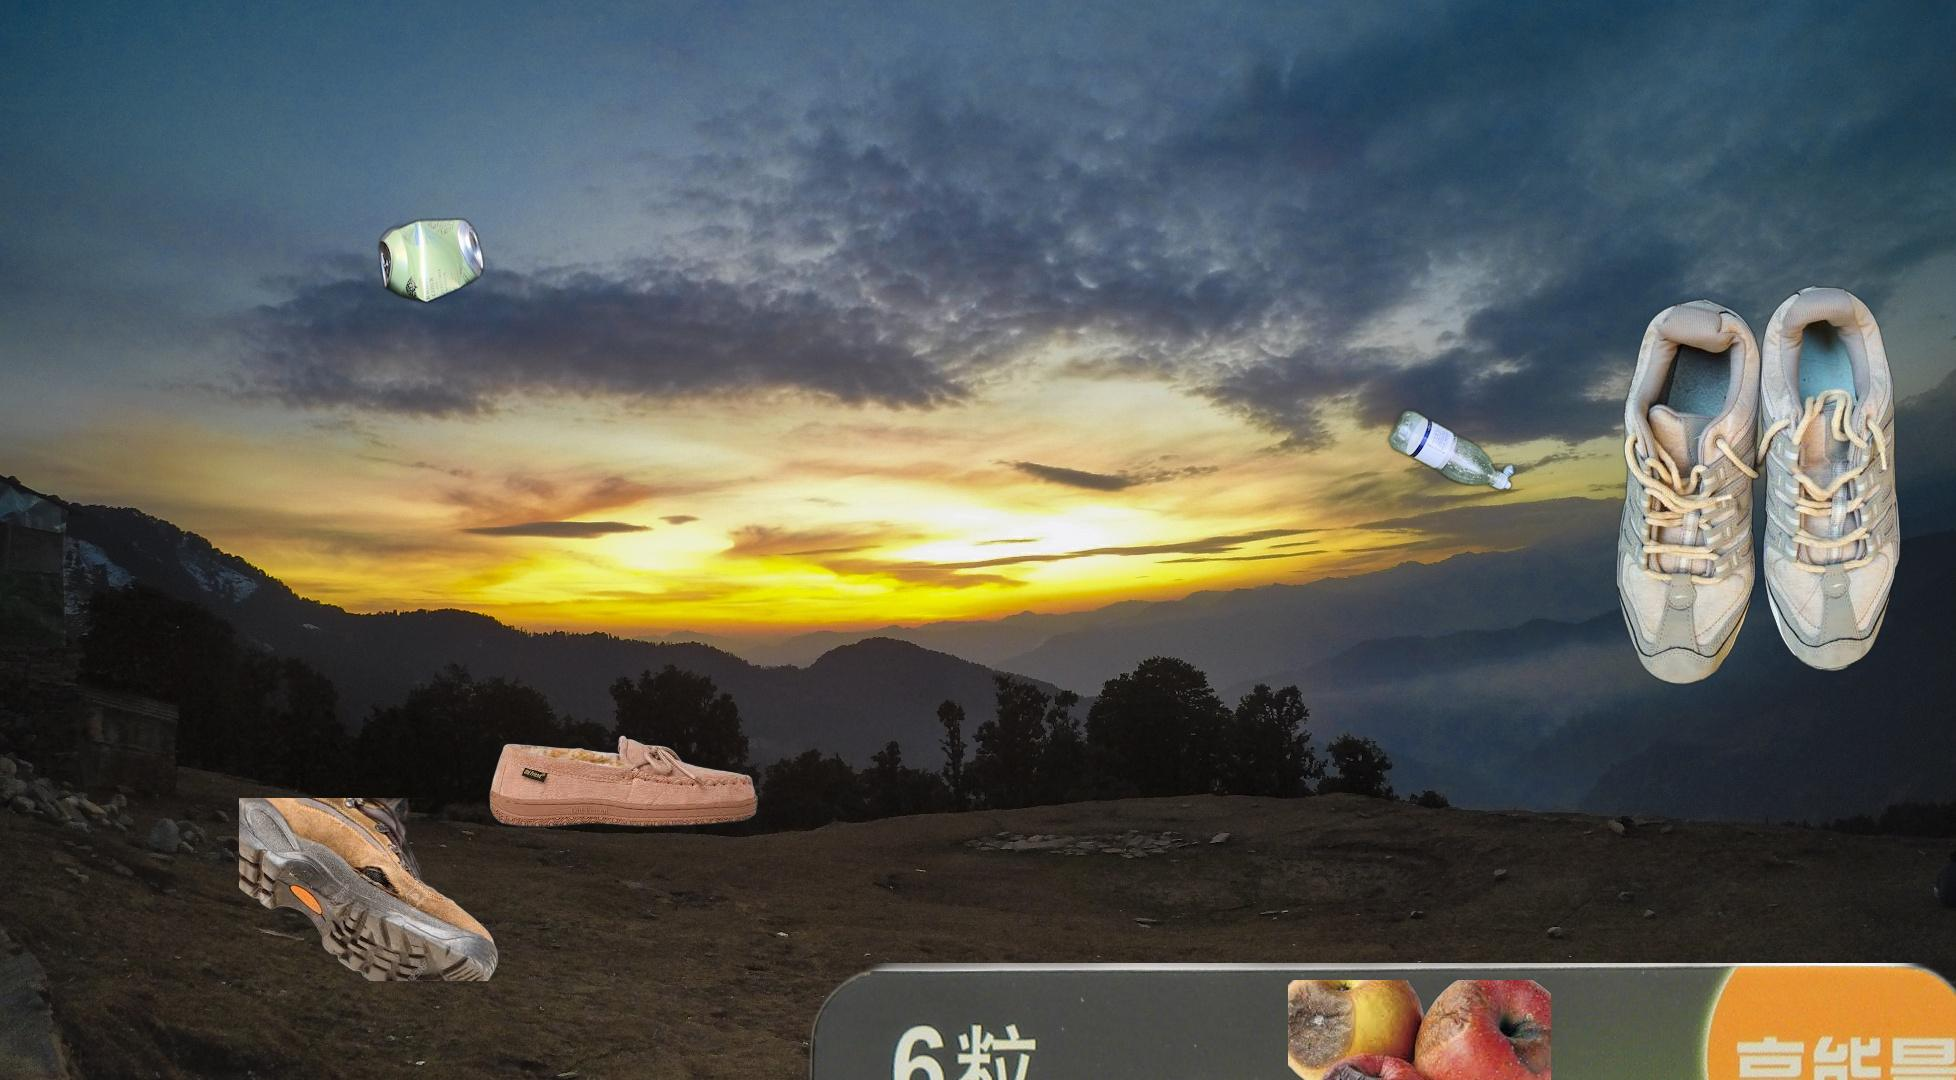battery: (624, 963, 1956, 1080)
biological: (1288, 980, 1550, 1080)
metal-cans: (374, 211, 737, 665)
plastic-bottles: (1060, 404, 1519, 690)
shoes: (1613, 282, 1903, 690), (239, 798, 501, 982), (488, 733, 759, 830)
